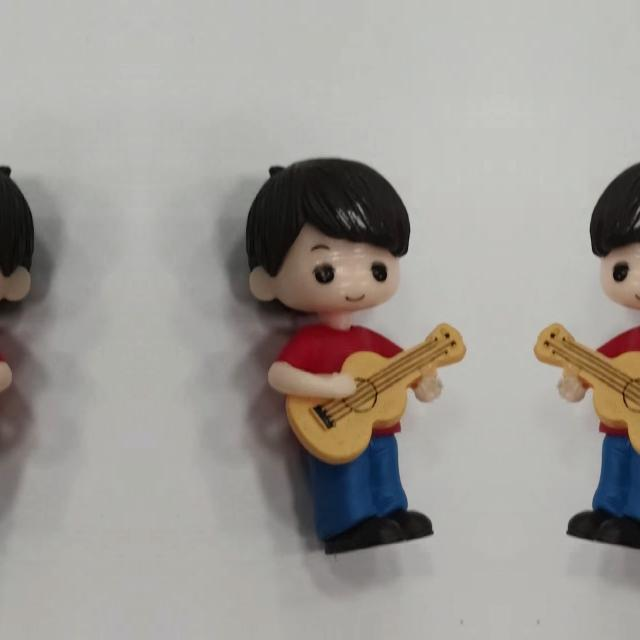man cloth: (262, 316, 426, 434), (574, 316, 640, 434), (0, 316, 17, 434)
man head: (244, 153, 408, 313), (591, 153, 640, 313), (0, 153, 36, 313)
trousers: (303, 434, 445, 562), (555, 434, 640, 561)
